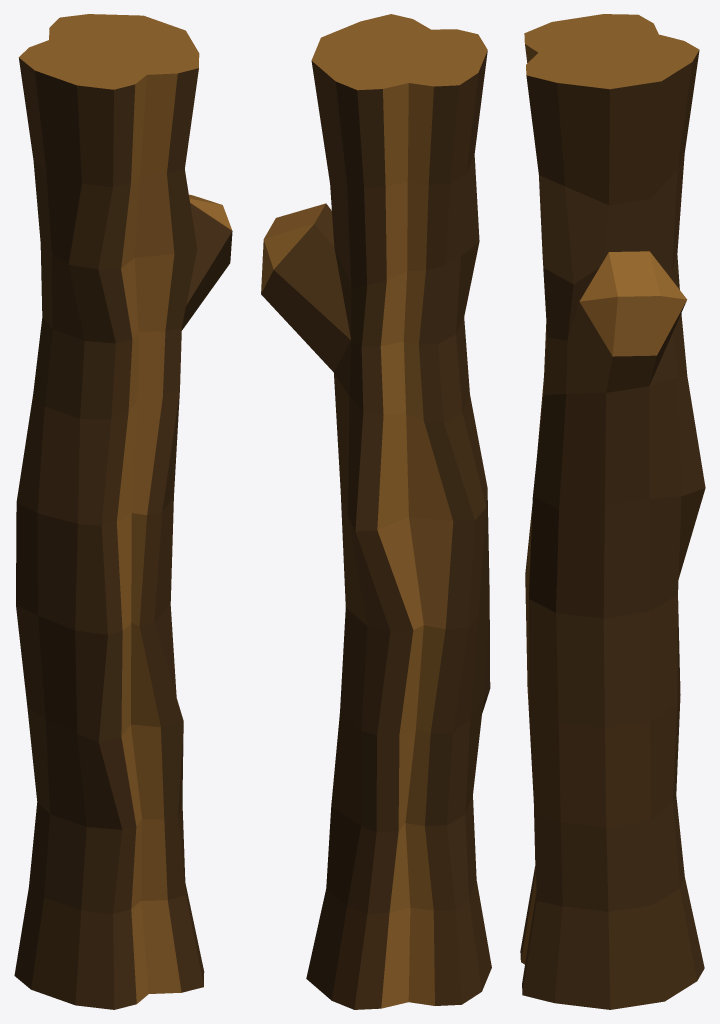
File: log_3.fbx
3 renders of one model, left to right at view 1: azimuth 30°, elevation 25°; view 2: azimuth 150°, elevation 25°; view 3: azimuth 270°, elevation 25°, orthographic.
Visible parts, largest first — view 1: Cylinder; view 2: Cylinder; view 3: Cylinder.
Boxes of the visible parts, <box> form: Cylinder: <box>14,14,232,1009</box>; Cylinder: <box>261,14,491,1009</box>; Cylinder: <box>520,14,705,1009</box>.
Bounding box in the file's own units: 47.21 × 200 × 36.47.
